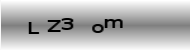3: (60, 17, 73, 30)
L: (27, 21, 39, 36)
Z: (47, 18, 60, 33)
m: (104, 18, 123, 28)
o: (91, 23, 103, 34)
